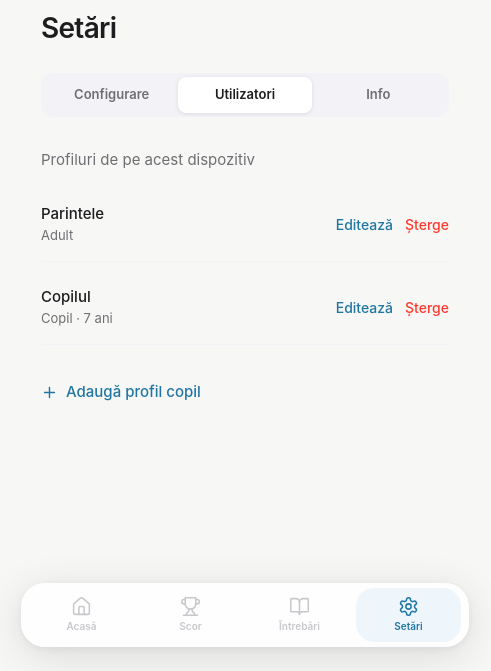
Test case: R4-fix6: Setări -- editing profile B while profile A's save is still in flight › shows B's own form, and A's later result/error never paints onto it
Click the button "Editează" in the row of "Parintele".
click(364, 224)  # box [336, 214, 393, 234]
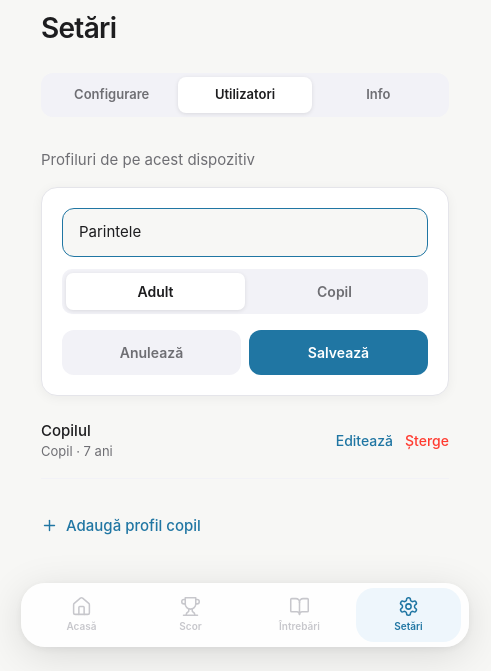
Result: the field showing "Parintele" is shown at [62, 208, 428, 256]
Click the button "Salvează".
click(338, 352)  # box [249, 330, 428, 374]
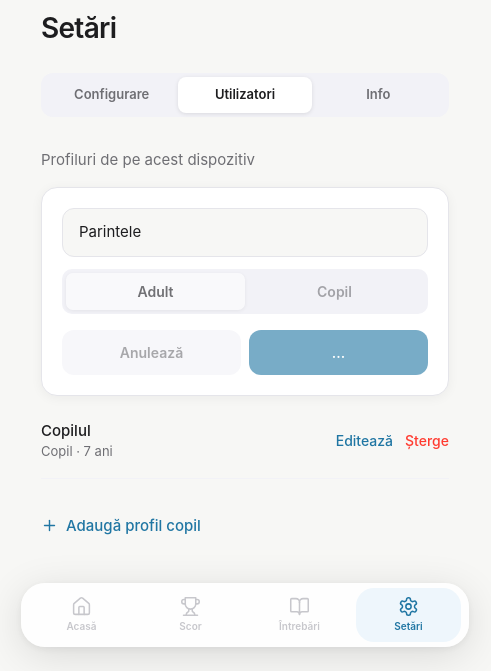
Click the button "Editează".
click(364, 440)  # box [336, 430, 393, 451]
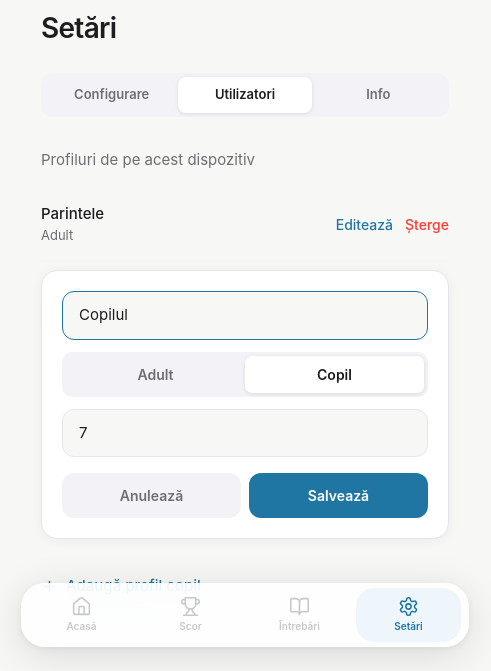
Result: the field showing "Copilul" is shown at [62, 291, 428, 340]
